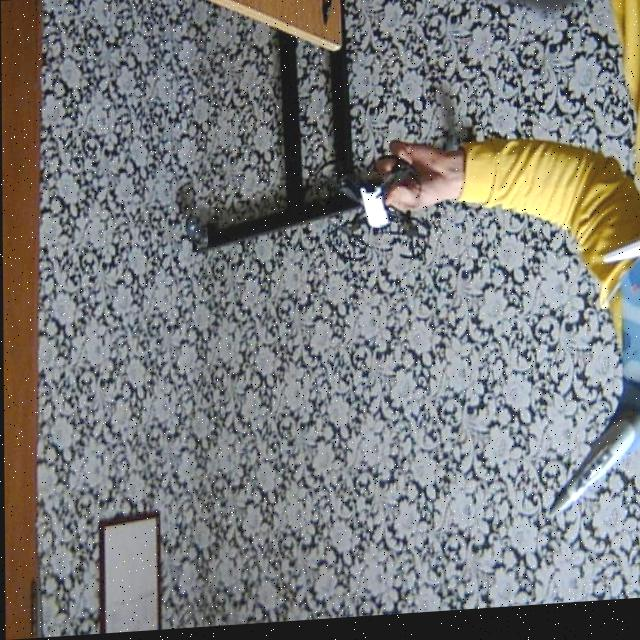drone: (301, 139, 442, 274)
